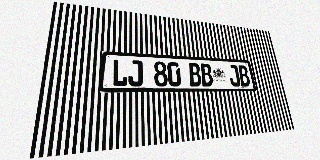0: (167, 62, 181, 86)
8: (153, 61, 168, 86)
B: (188, 63, 202, 86), (200, 63, 214, 86), (237, 65, 251, 86)
J: (128, 60, 143, 86), (227, 65, 241, 86)
L: (112, 59, 128, 86)
